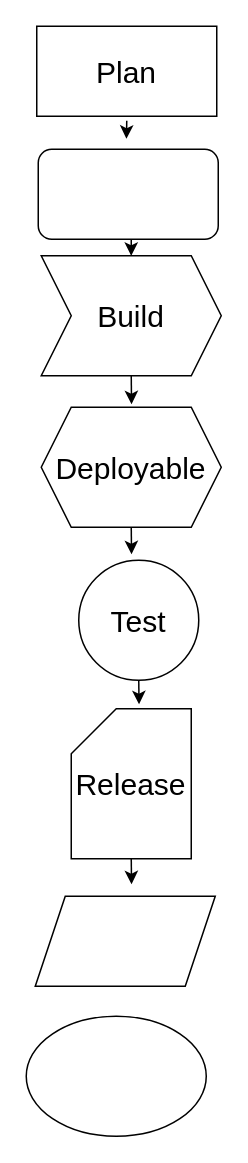
The diagram is 248 pixels wide and 1163 high, and some of its shapes have lost their labels. Here are the shapes that lost their labels. From the top down, the centre of each, then its label:
At [127,193]: "Develp".
At [124,940]: "Deploy".
At [115,1075]: "Moniter".
